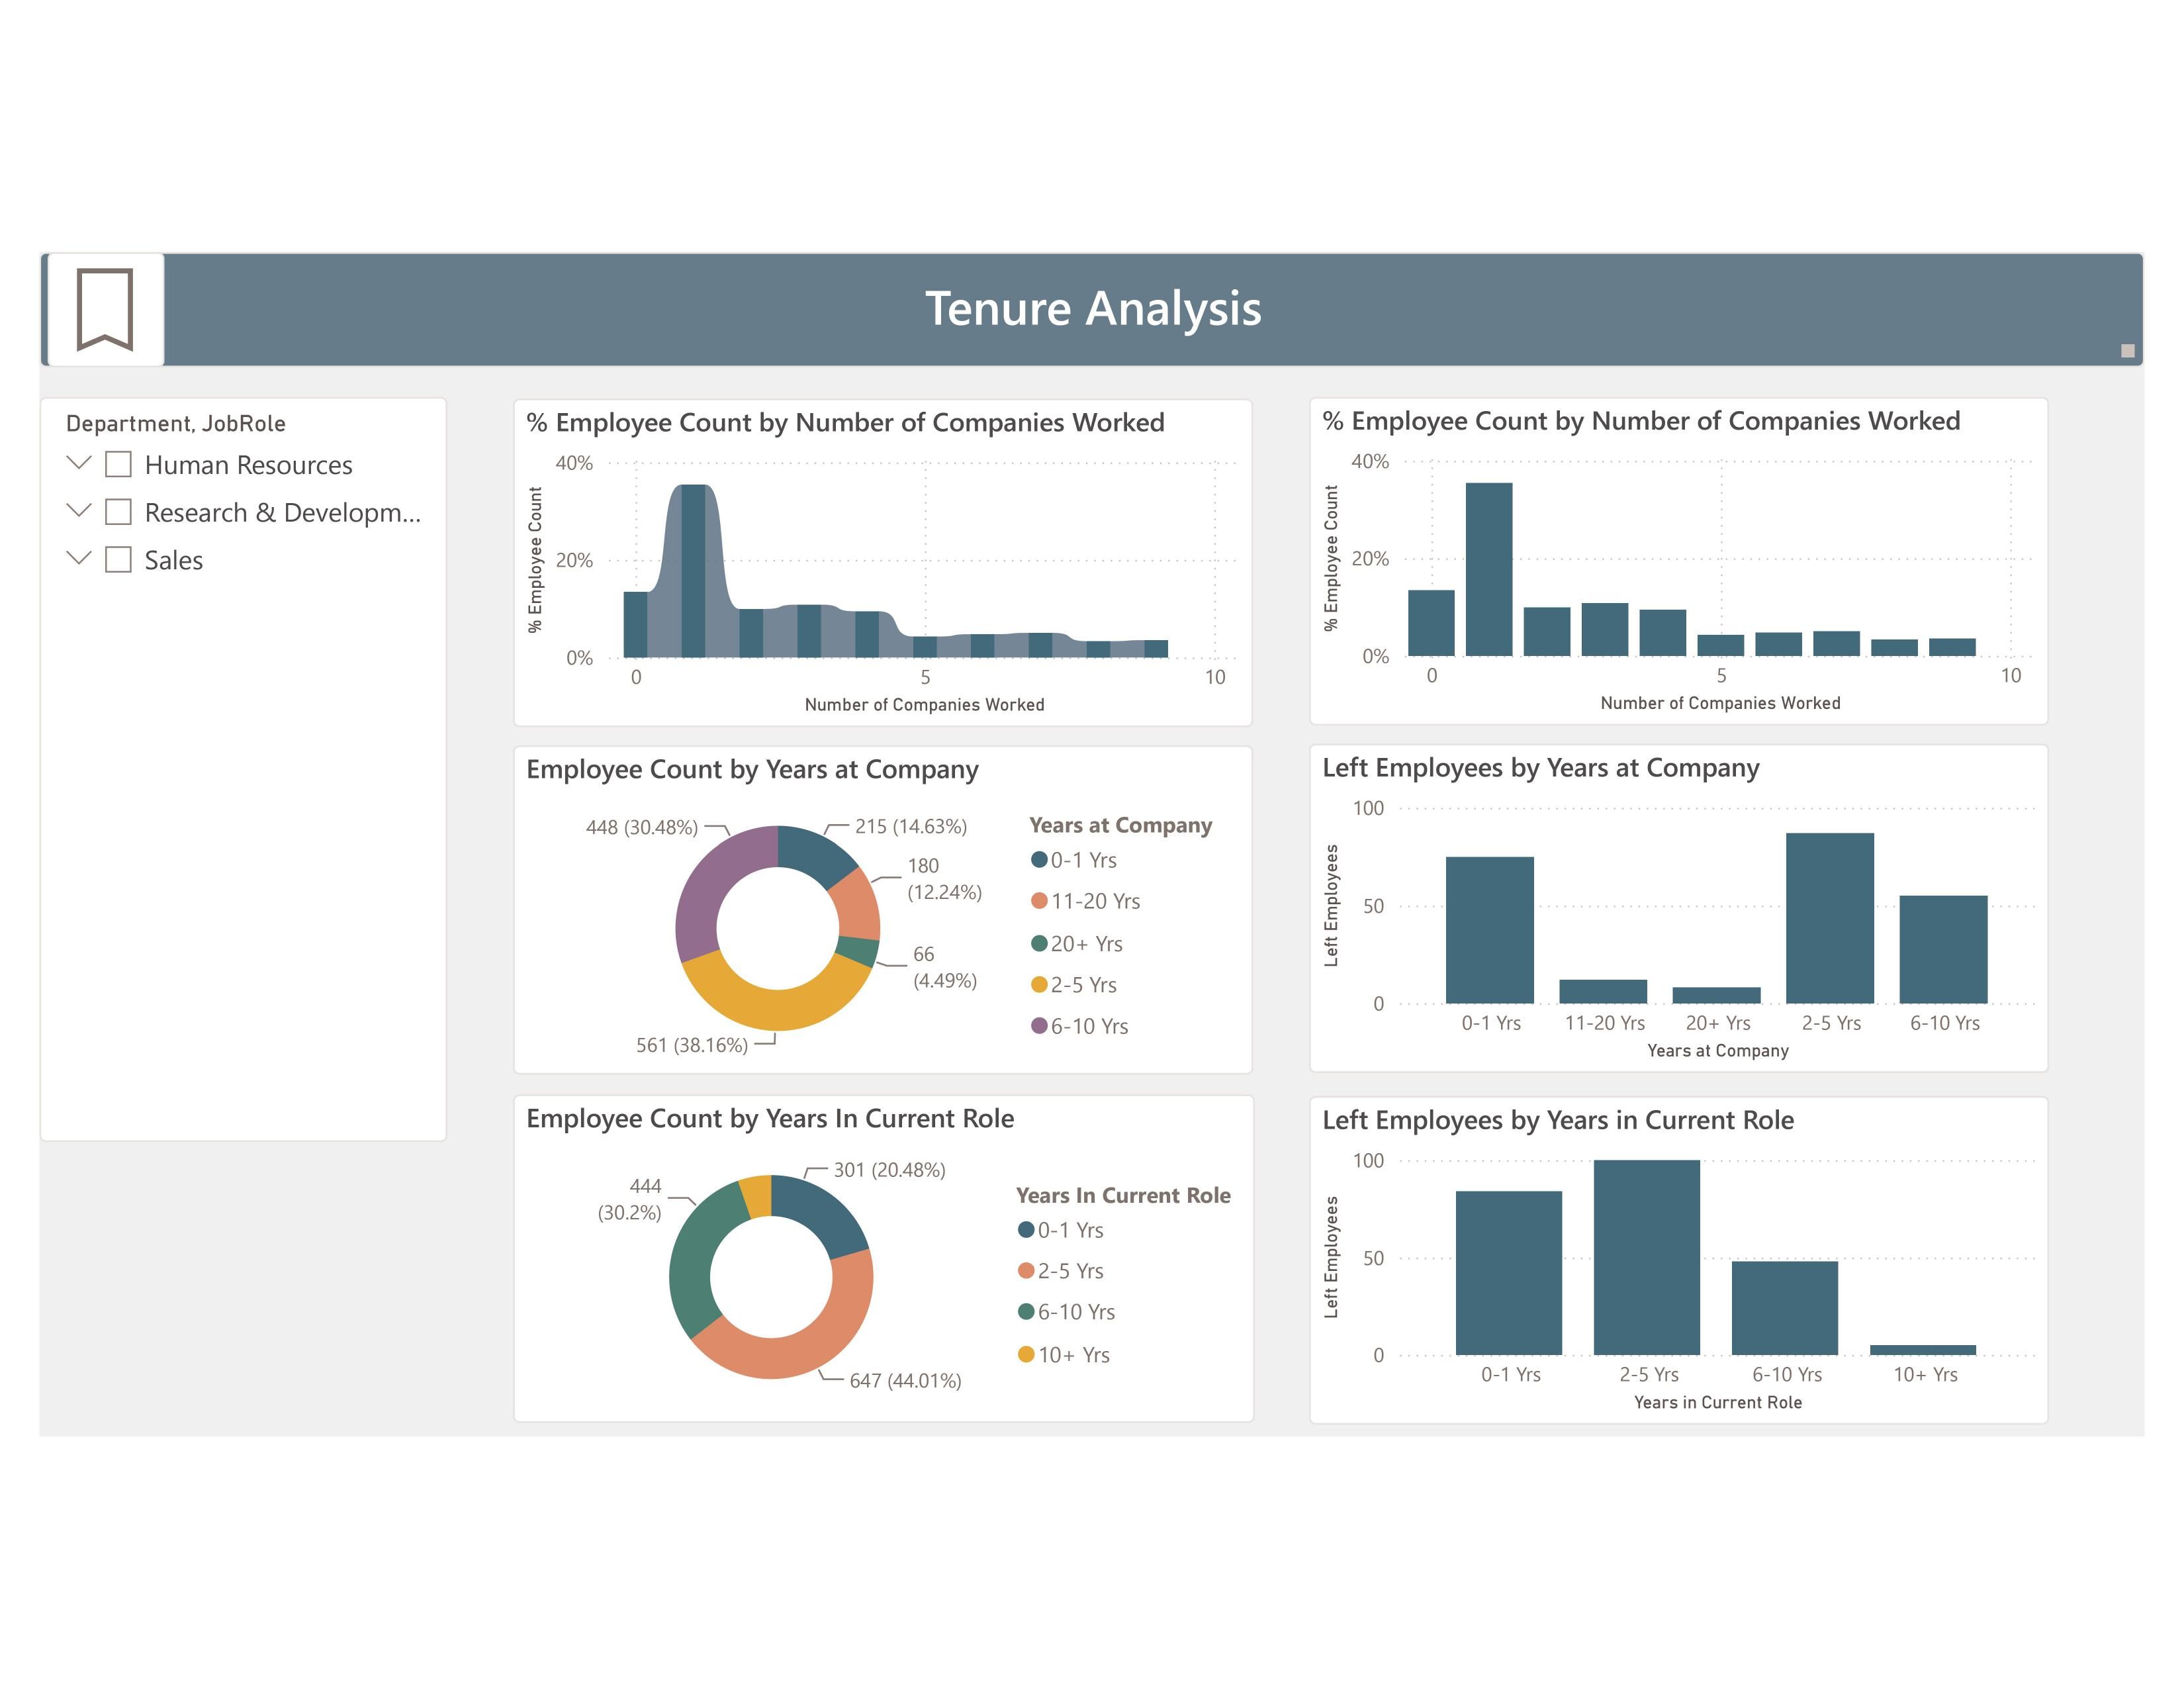

This screenshot's page, from the dashboard's own definition file:
{"tool":"powerbi","page":{"name":"Tenure","canvas":[1280,720],"ordinal":6},"visuals":[{"type":"ribbonChart","fields":{"Category":["Survey Input.NumCompaniesWorked"],"Y":["Divide(Sum(Survey Input.EmployeeCount), ScopedEval(Sum(Survey Input.EmployeeCount), []))"]},"box":[288.3,88.6,450,200],"z":0},{"type":"clusteredColumnChart","title":"% Employee Count by Number of Companies Worked","fields":{"Category":["Survey Input.NumCompaniesWorked"],"Y":["Divide(Sum(Survey Input.EmployeeCount), ScopedEval(Sum(Survey Input.EmployeeCount), []))"]},"box":[772,88.3,450,200],"z":1000},{"type":"textbox","title":"Tenure Analysis","box":[0,0,1279.8,70],"z":2000},{"type":"slicer","fields":{"Values":["Survey Input.Department","Survey Input.JobRole"]},"box":[0,88.4,247.7,452.3],"z":3000},{"type":"donutChart","fields":{"Category":["Survey Input.YearsAtCompanyBins"],"Y":["Sum(Survey Input.EmployeeCount)"]},"box":[288.3,299.6,450,200],"z":4000},{"type":"clusteredColumnChart","fields":{"Category":["Survey Input.YearsAtCompanyBins"],"Y":["All_Measures.Left Employees"]},"box":[772,299.4,450,200],"z":5000},{"type":"donutChart","fields":{"Category":["Survey Input.YearsInCurrentRoleBins"],"Y":["Sum(Survey Input.EmployeeCount)"]},"box":[288.3,511.9,450.3,200],"z":6000},{"type":"clusteredColumnChart","fields":{"Category":["Survey Input.YearsInCurrentRoleBins"],"Y":["All_Measures.Left Employees"]},"box":[772,512.9,450.3,200],"z":7000},{"type":"actionButton","box":[4.9,0,71.2,69.9],"z":8000}]}

Visuals, with their boxes on the page's 1280x720 design canvas (x1, y1, x2, y2). These are canvas units, not pixel positions in the 2184x1688 screenshot, which may show the page scaled, cropped or inside an application window:
ribbonChart - Survey Input.NumCompaniesWorked x Divide(Sum(Survey Input.EmployeeCount), ScopedEval(Sum(Survey Input.EmployeeCount), [])): pyautogui.locateOnScreen(288, 89, 738, 289)
"% Employee Count by Number of Companies Worked" clusteredColumnChart: pyautogui.locateOnScreen(772, 88, 1222, 288)
"Tenure Analysis" textbox: pyautogui.locateOnScreen(0, 0, 1280, 70)
slicer - Survey Input.Department x Survey Input.JobRole: pyautogui.locateOnScreen(0, 88, 248, 541)
donutChart - Survey Input.YearsAtCompanyBins x Sum(Survey Input.EmployeeCount): pyautogui.locateOnScreen(288, 300, 738, 500)
clusteredColumnChart - Survey Input.YearsAtCompanyBins x All_Measures.Left Employees: pyautogui.locateOnScreen(772, 299, 1222, 499)
donutChart - Survey Input.YearsInCurrentRoleBins x Sum(Survey Input.EmployeeCount): pyautogui.locateOnScreen(288, 512, 739, 712)
clusteredColumnChart - Survey Input.YearsInCurrentRoleBins x All_Measures.Left Employees: pyautogui.locateOnScreen(772, 513, 1222, 713)
actionButton: pyautogui.locateOnScreen(5, 0, 76, 70)
